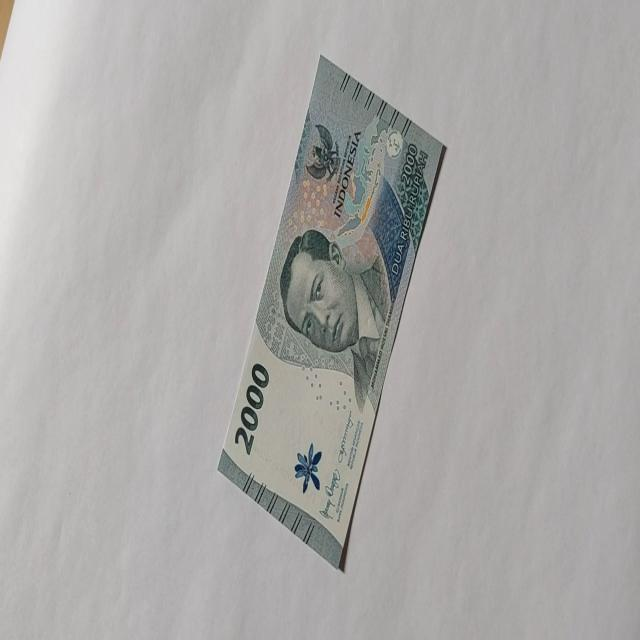dua ribu rupiah: (215, 53, 448, 570), (278, 226, 392, 412)
